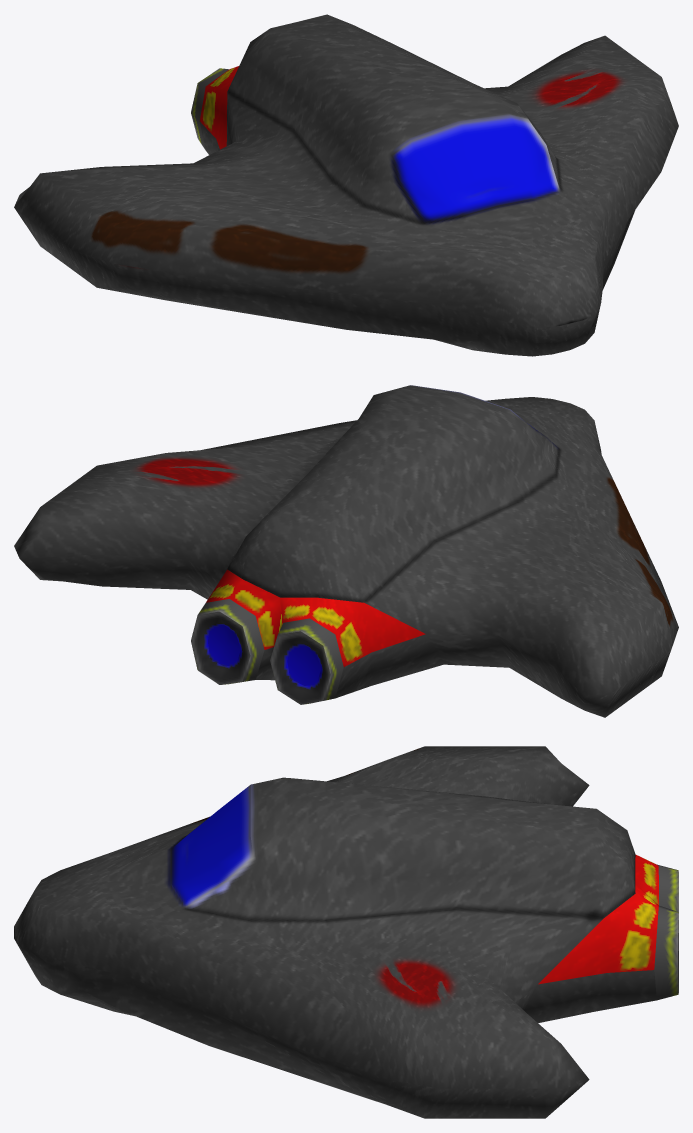
The model's file is SpaceShip7.fbx.
The picture shows the model from 3 angles, top to bottom: view 1: azimuth 30°, elevation 25°; view 2: azimuth 150°, elevation 25°; view 3: azimuth 270°, elevation 25°; orthographic projection. The views are drawn at different scales.
Visible parts, largest first — view 1: pCube1; view 2: pCube1; view 3: pCube1.
Boxes of the visible parts, box(x1,y1,x2,y2) form: pCube1: box(14, 14, 678, 356); pCube1: box(14, 385, 678, 717); pCube1: box(14, 746, 678, 1118).
Size of the model in its own units: 12.91 by 3.61 by 11.62.
